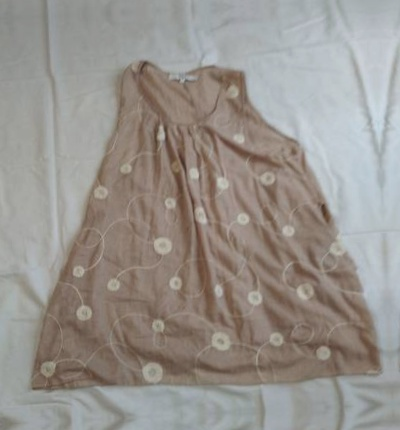Dress: (3, 33, 386, 410), (380, 14, 400, 390), (22, 419, 400, 430)
